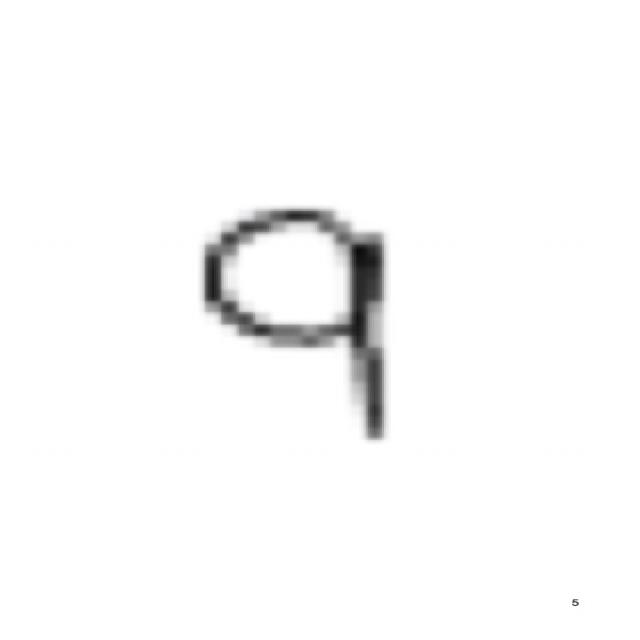9 -nine-: (182, 196, 412, 454)
